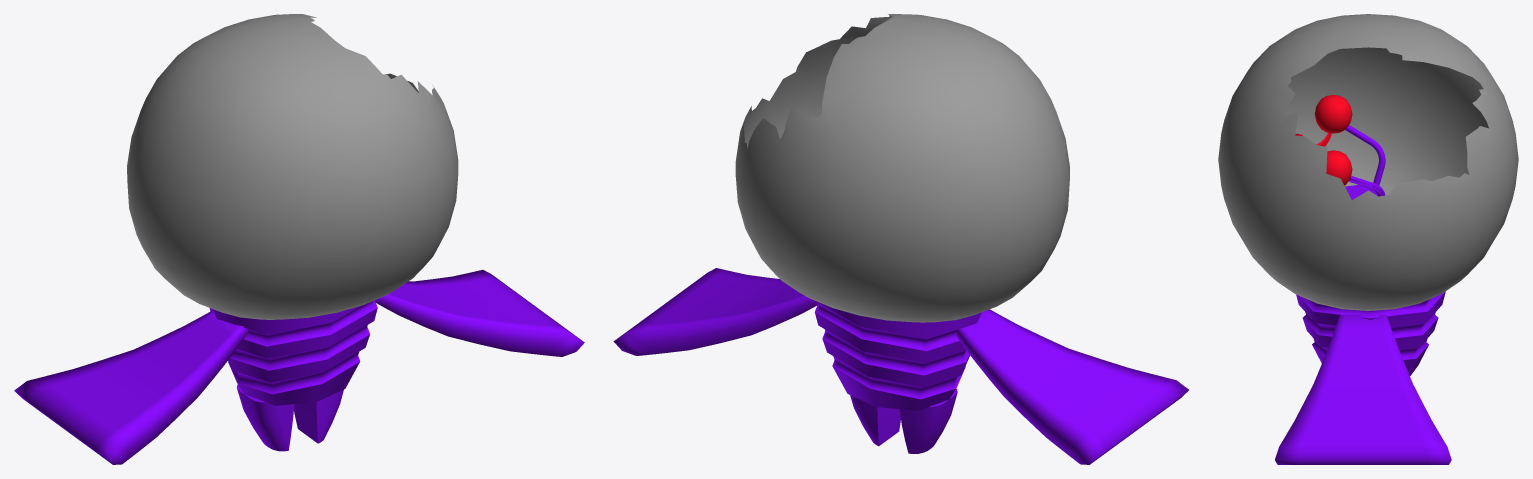
Rendered from Bulb.fbx.
The picture shows the model from 3 angles, left to right: view 1: azimuth 30°, elevation 25°; view 2: azimuth 150°, elevation 25°; view 3: azimuth 270°, elevation 25°; orthographic projection. The views are drawn at different scales.
Parts seen in each view (by area): view 1: Head003, LeftArm007, Body003, LeftArm006, RightLeg003, LeftLeg003; view 2: Head003, LeftArm007, Body003, LeftArm006, RightLeg003, LeftLeg003; view 3: Head003, LeftArm006, Body003, LeftEye007, LeftEye006, LeftBar005.
Boxes of the visible parts, box(x1,y1,x2,y2) form: Head003: box(127, 14, 458, 319); LeftArm007: box(14, 310, 248, 464); Body003: box(209, 300, 377, 405); LeftArm006: box(375, 269, 584, 356); RightLeg003: box(236, 384, 294, 451); LeftLeg003: box(294, 389, 343, 443); Head003: box(735, 14, 1069, 322); LeftArm007: box(956, 309, 1188, 464); Body003: box(814, 300, 981, 410); LeftArm006: box(613, 268, 817, 355); RightLeg003: box(899, 389, 957, 453); LeftLeg003: box(850, 395, 900, 446); Head003: box(1218, 14, 1518, 310); LeftArm006: box(1275, 315, 1451, 464); Body003: box(1296, 291, 1445, 375); LeftEye007: box(1314, 95, 1352, 133); LeftEye006: box(1326, 150, 1352, 185); LeftBar005: box(1345, 125, 1385, 185).
Size of the model in its own units: 57.03 by 32.83 by 46.42.
